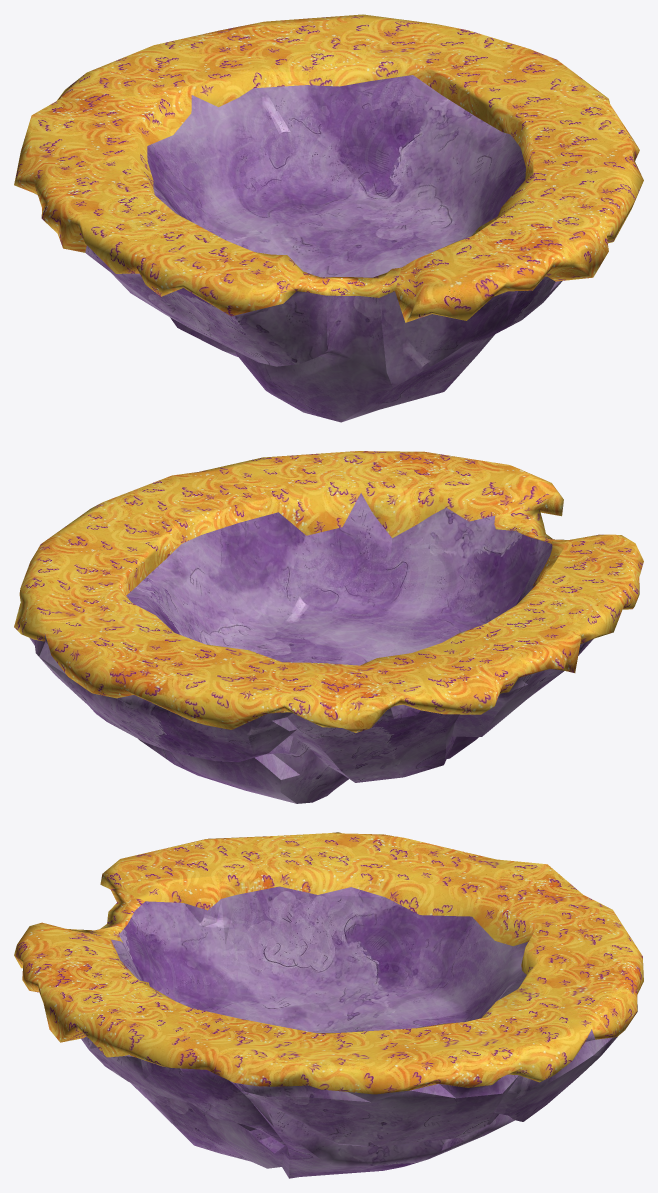
Rendered from entity42370.gltf.
The picture shows the model from 3 angles, top to bottom: view 1: azimuth 30°, elevation 25°; view 2: azimuth 150°, elevation 25°; view 3: azimuth 270°, elevation 25°; orthographic projection. The views are drawn at different scales.
Visible parts, largest first — view 1: node_Floating_island_01_water2; view 2: node_Floating_island_01_water2; view 3: node_Floating_island_01_water2.
Boxes of the visible parts, box(x1,y1,x2,y2) form: node_Floating_island_01_water2: box(14, 14, 643, 422); node_Floating_island_01_water2: box(14, 451, 643, 803); node_Floating_island_01_water2: box(14, 832, 643, 1178).
Bounding box in the file's own units: 2522 × 920 × 2728.
Materials: 2 (2 with a texture image).
